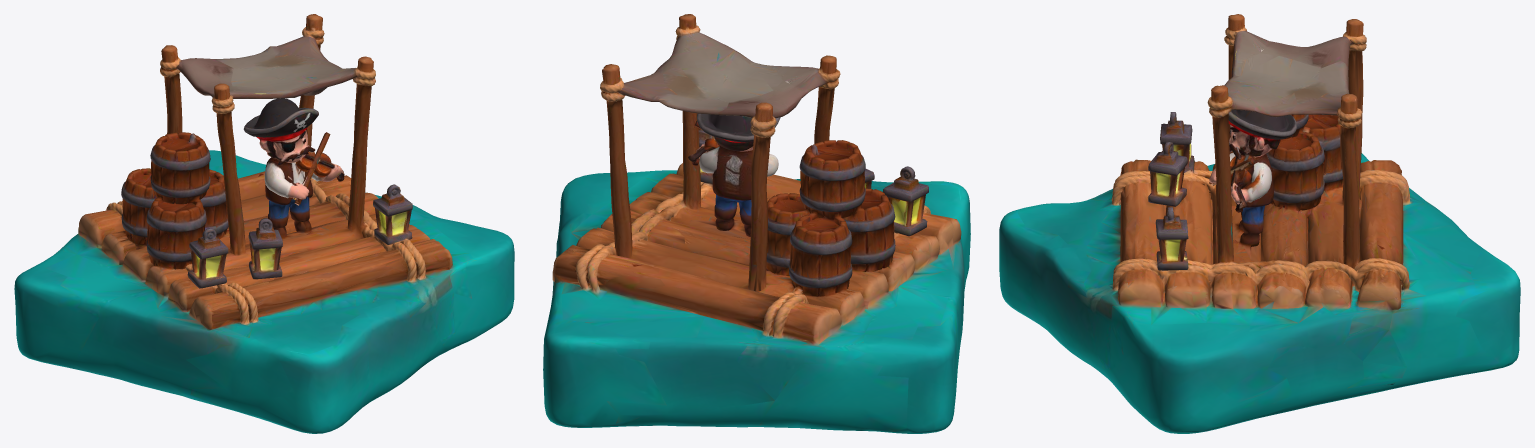
Rendered from m_tavern_animated.glb.
3 views of the same model, side by side, from view 1: azimuth 30°, elevation 25°; view 2: azimuth 150°, elevation 25°; view 3: azimuth 270°, elevation 25° (orthographic). The views are drawn at different scales.
Parts seen in each view (by area): view 1: m_tavern_Living_Scenery; view 2: m_tavern_Living_Scenery; view 3: m_tavern_Living_Scenery.
Boxes of the visible parts, x1,y1,x2,y2 form: m_tavern_Living_Scenery: [14, 14, 514, 433]; m_tavern_Living_Scenery: [543, 14, 970, 433]; m_tavern_Living_Scenery: [999, 14, 1520, 433].
Bounding box in the file's own units: 0.9955 × 0.6003 × 0.9997.
1 material, 1 textured.
